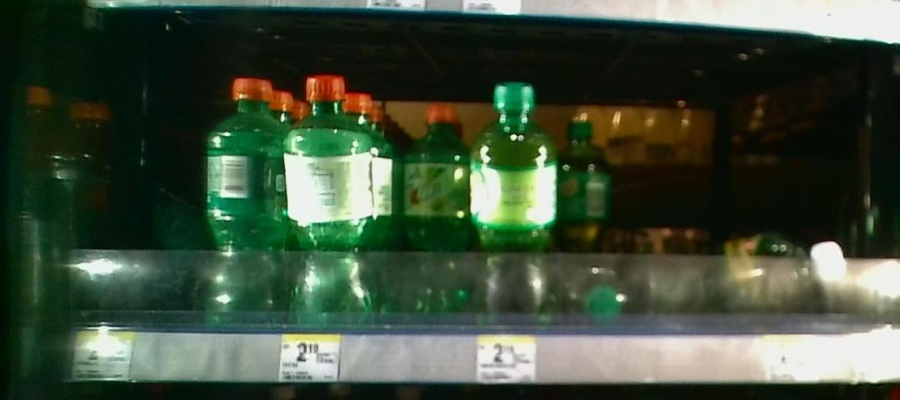bottle: (283, 71, 376, 322), (472, 79, 556, 326), (203, 74, 282, 317), (400, 104, 469, 331), (558, 112, 611, 267)
